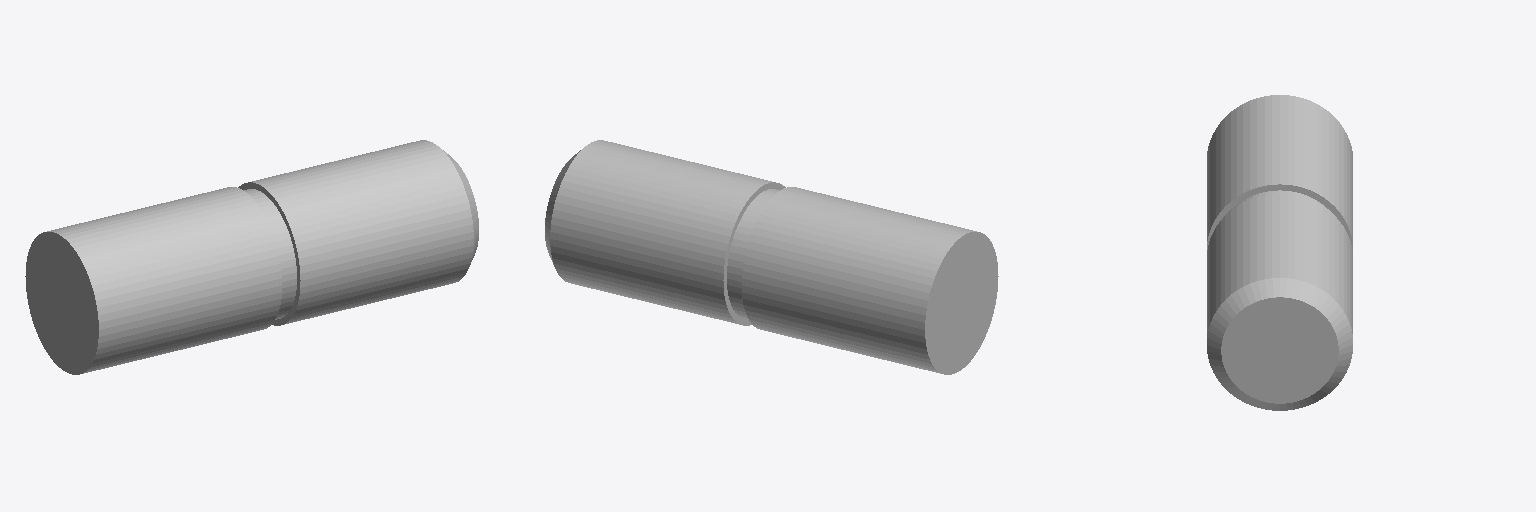
The model's file is ZagotovkaNarez.obj.
3 renders of one model, left to right at view 1: azimuth 30°, elevation 25°; view 2: azimuth 150°, elevation 25°; view 3: azimuth 270°, elevation 25°, orthographic.
Parts seen in each view (by area): view 1: pCylinder2; view 2: pCylinder2; view 3: pCylinder2.
Part boxes in pixels (bbox=[...]): pCylinder2: bbox=[25, 140, 478, 374]; pCylinder2: bbox=[545, 140, 998, 374]; pCylinder2: bbox=[1207, 95, 1352, 410].
Bounding box in the file's own units: 0.2663 × 0.0874 × 0.0874.